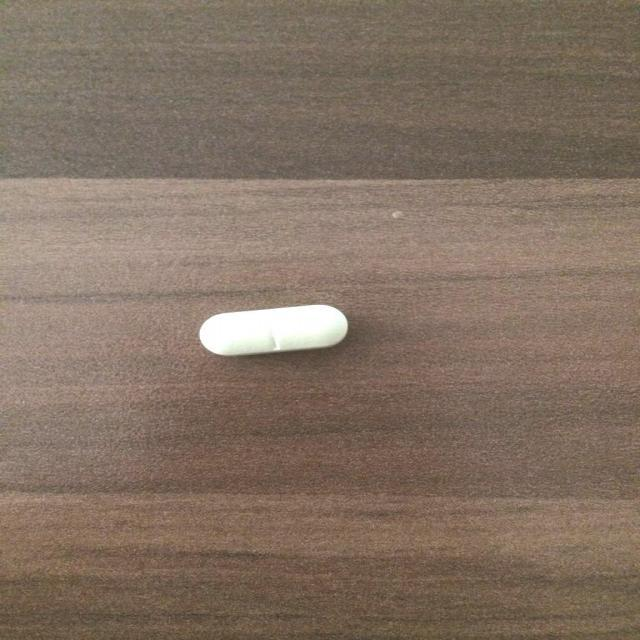pill: (195, 297, 350, 363)
